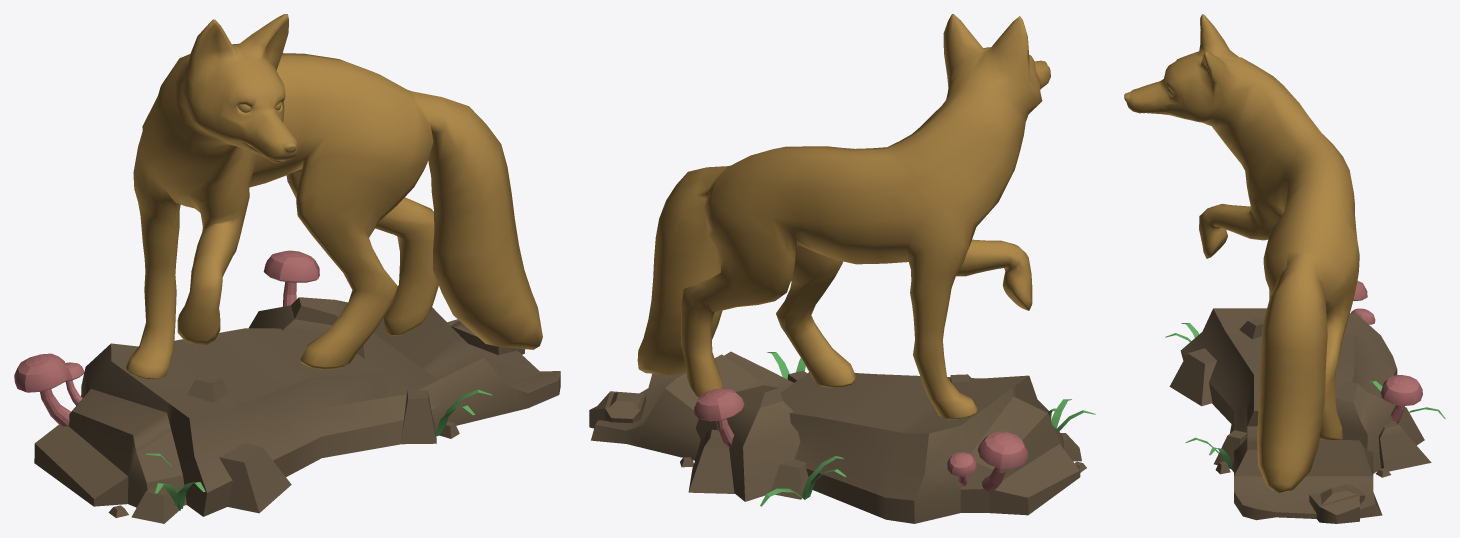
File: Fox Model v14 (FBX).fbx
3 renders of one model, left to right at view 1: azimuth 30°, elevation 25°; view 2: azimuth 150°, elevation 25°; view 3: azimuth 270°, elevation 25°, orthographic. The views are drawn at different scales.
Visible parts, largest first — view 1: polySurface18_e_64_4, pCube19, polySurface19, pPlane13; view 2: polySurface18_e_64_4, pCube19, polySurface19, pPlane13; view 3: polySurface18_e_64_4, pCube19, polySurface19, pPlane13.
Boxes of the visible parts, bbox=[...] form: polySurface18_e_64_4: bbox=[125, 14, 542, 379]; pCube19: bbox=[34, 297, 560, 523]; polySurface19: bbox=[14, 250, 319, 426]; pPlane13: bbox=[146, 389, 491, 510]; polySurface18_e_64_4: bbox=[637, 14, 1050, 419]; pCube19: bbox=[589, 351, 1086, 523]; polySurface19: bbox=[694, 388, 1027, 492]; pPlane13: bbox=[760, 352, 1095, 506]; polySurface18_e_64_4: bbox=[1124, 14, 1359, 492]; pCube19: bbox=[1169, 308, 1431, 523]; polySurface19: bbox=[1351, 281, 1422, 423]; pPlane13: bbox=[1165, 323, 1445, 468].
Size of the model in its own units: 5.07 by 4.78 by 3.81.
